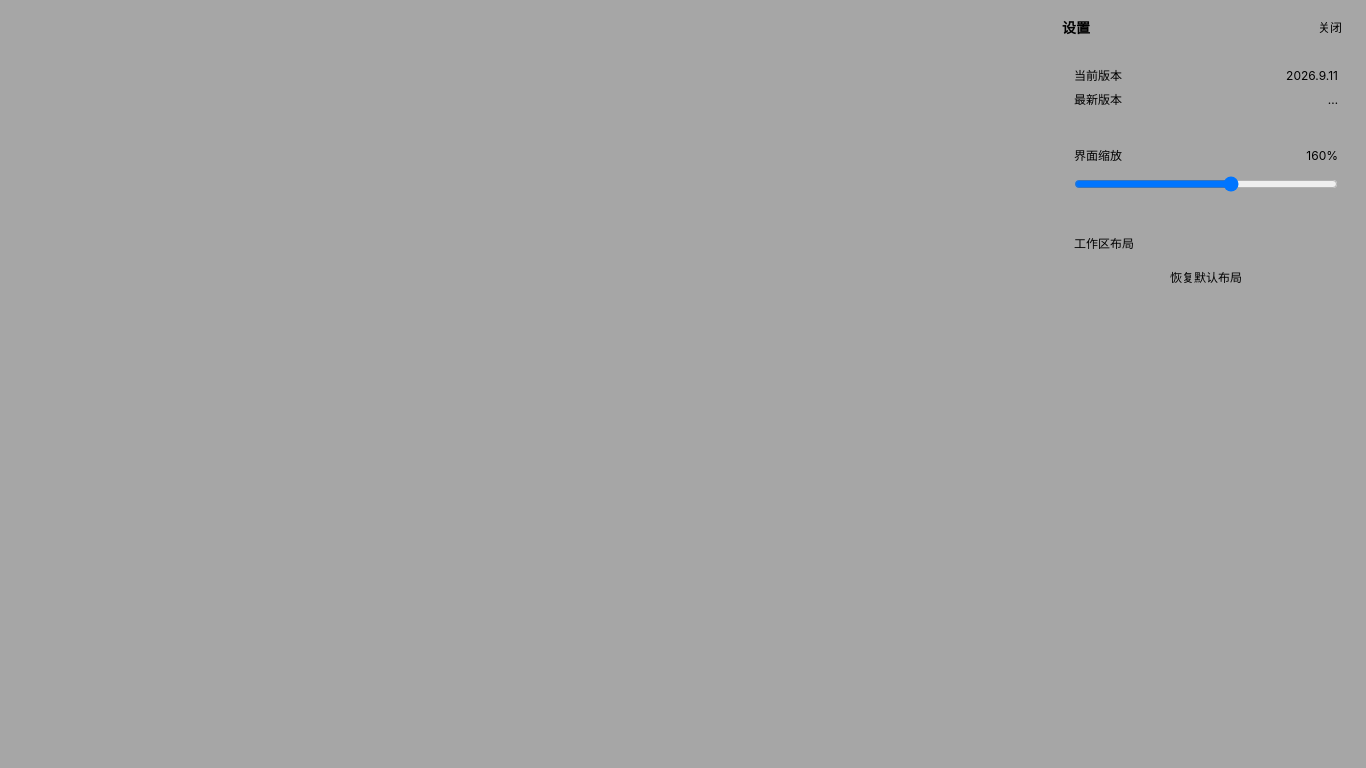
SettingsDrawer › restore defaults resets layout and ui scale
Check: the text "160%" is shown, box [1306,148,1338,164]
Click the button "恢复默认布局": click(1206, 278) [1074,264,1338,292]
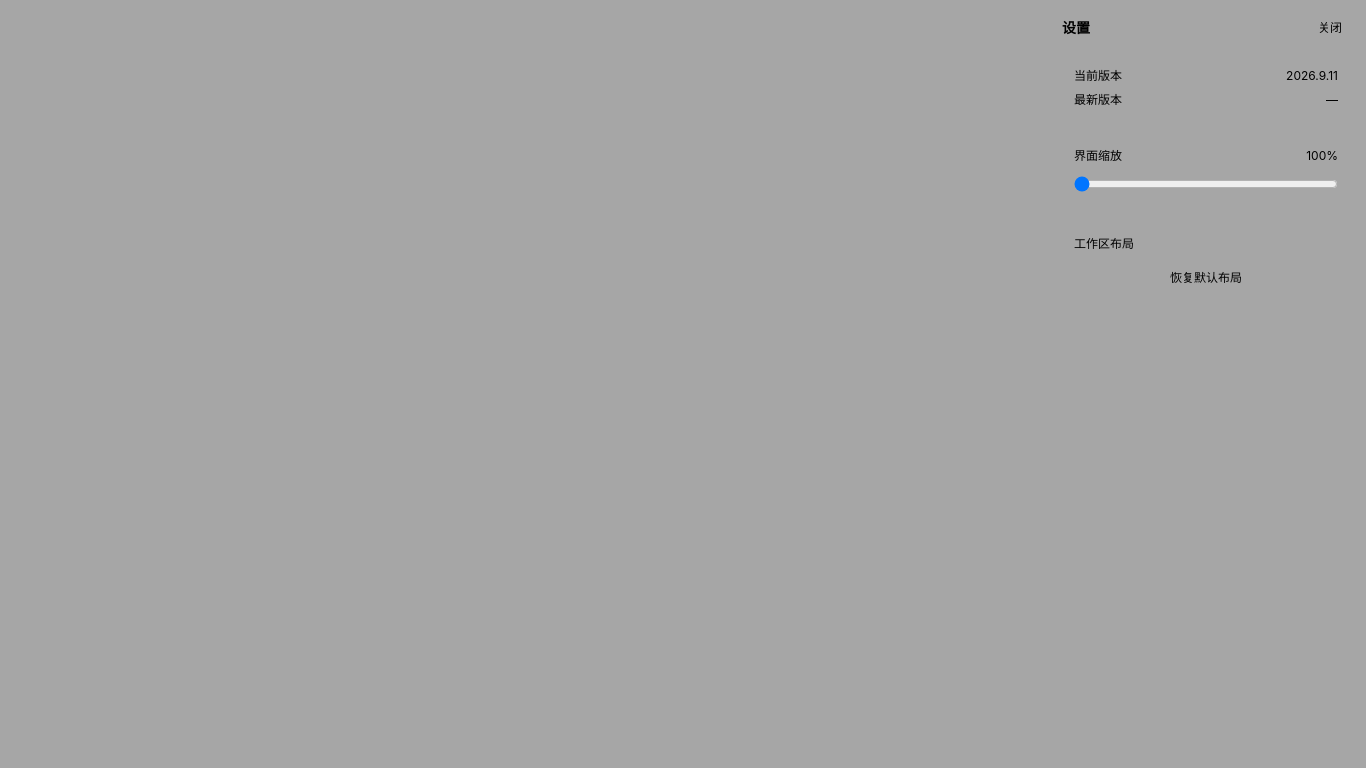
Check: the text "100%" is shown, box [1306,148,1338,164]
